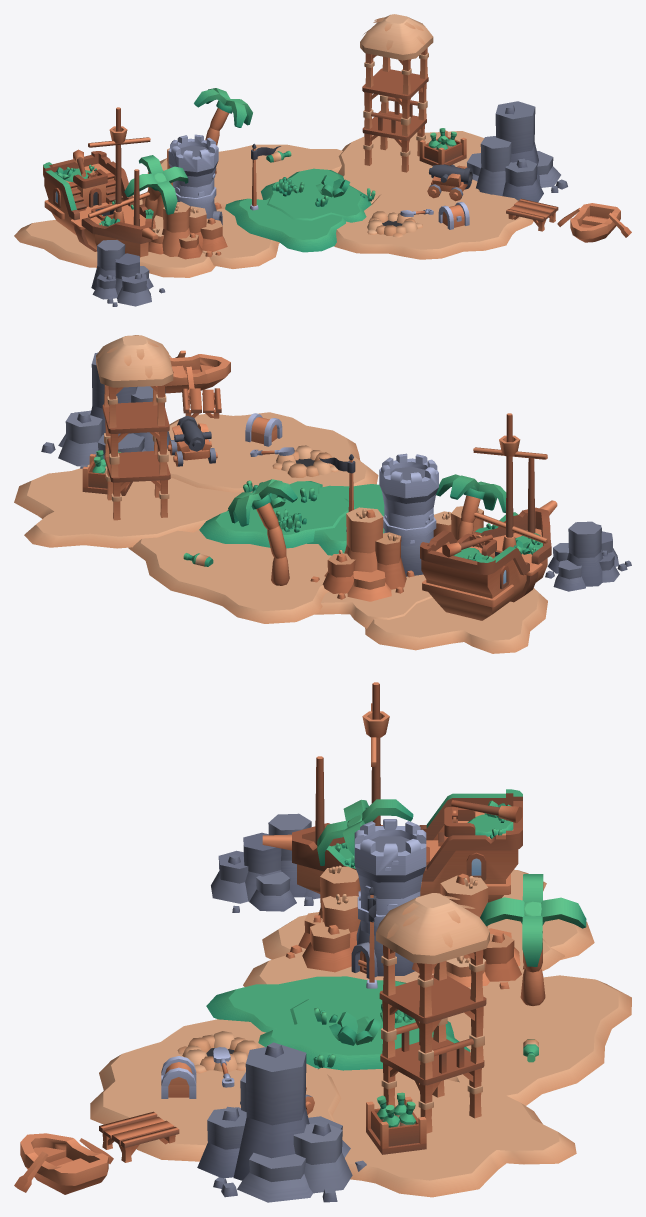
The model's file is island.glb.
3 renders of one model, top to bottom at view 1: azimuth 30°, elevation 25°; view 2: azimuth 150°, elevation 25°; view 3: azimuth 270°, elevation 25°, orthographic. The views are drawn at different scales.
Parts seen in each view (by area): view 1: patch-sand, ship-wreck, rocks-b, patch-sand.002, patch-sand.001, patch-sand.004, patch-grass, structure-roof, patch-grass.001, rocks-sand-a, tower-complete-small, rocks-a.001 (+14 smaller); view 2: patch-sand.002, patch-sand.001, ship-wreck, patch-sand, patch-sand.004, rocks-sand-b, tower-complete-small, structure-roof, patch-grass.001, rocks-b, rocks-a.001, palm-bend (+15 smaller); view 3: patch-sand.001, rocks-b, patch-sand.002, patch-sand, ship-wreck, structure-roof, tower-complete-small, structure-fence, rocks-a.001, patch-grass.001, patch-grass, rocks-sand-a (+13 smaller).
Part boxes in pixels (x1,y1,x2,y2): patch-sand: (334, 179, 533, 259); ship-wreck: (43, 107, 158, 257); rocks-b: (467, 101, 567, 202); patch-sand.002: (147, 144, 342, 208); patch-sand.001: (338, 131, 484, 203); patch-sand.004: (14, 220, 215, 277); patch-grass: (225, 197, 345, 252); structure-roof: (360, 14, 433, 94); patch-grass.001: (261, 168, 371, 222); rocks-sand-a: (148, 201, 227, 259); tower-complete-small: (168, 134, 222, 225); rocks-a.001: (91, 240, 165, 306); patch-sand.002: (128, 530, 331, 623); patch-sand.001: (14, 464, 251, 548); ship-wreck: (420, 413, 557, 620); patch-sand: (167, 412, 378, 492); patch-sand.004: (365, 588, 547, 653); rocks-sand-b: (310, 507, 414, 601); tower-complete-small: (379, 453, 438, 576); structure-roof: (96, 335, 173, 427); patch-grass.001: (199, 481, 354, 548); rocks-b: (41, 352, 170, 468); rocks-a.001: (545, 521, 631, 591); palm-bend: (228, 479, 297, 585); patch-sand.001: (317, 1067, 576, 1197); rocks-b: (197, 1042, 366, 1202); patch-sand.002: (447, 975, 631, 1105); patch-sand: (90, 1019, 341, 1161); ship-wreck: (262, 682, 522, 902); structure-roof: (376, 893, 489, 1017); tower-complete-small: (351, 819, 426, 978); structure-fence: (379, 974, 486, 1079); rocks-a.001: (211, 813, 320, 912); patch-grass.001: (258, 996, 470, 1070); patch-grass: (206, 976, 406, 1032); rocks-sand-a: (286, 865, 360, 972).
Bounding box in the file's own units: 19.15 × 6.06 × 14.4.
Materials: 24 (24 with a texture image).
